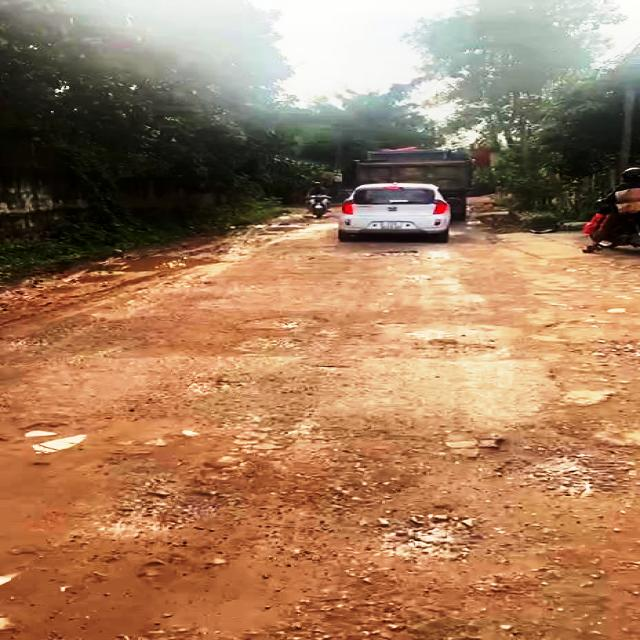pothole: (527, 323, 640, 434), (491, 434, 640, 498), (98, 466, 225, 530), (374, 502, 491, 568), (237, 312, 331, 330), (425, 337, 503, 358), (181, 378, 248, 396), (378, 248, 421, 257)
